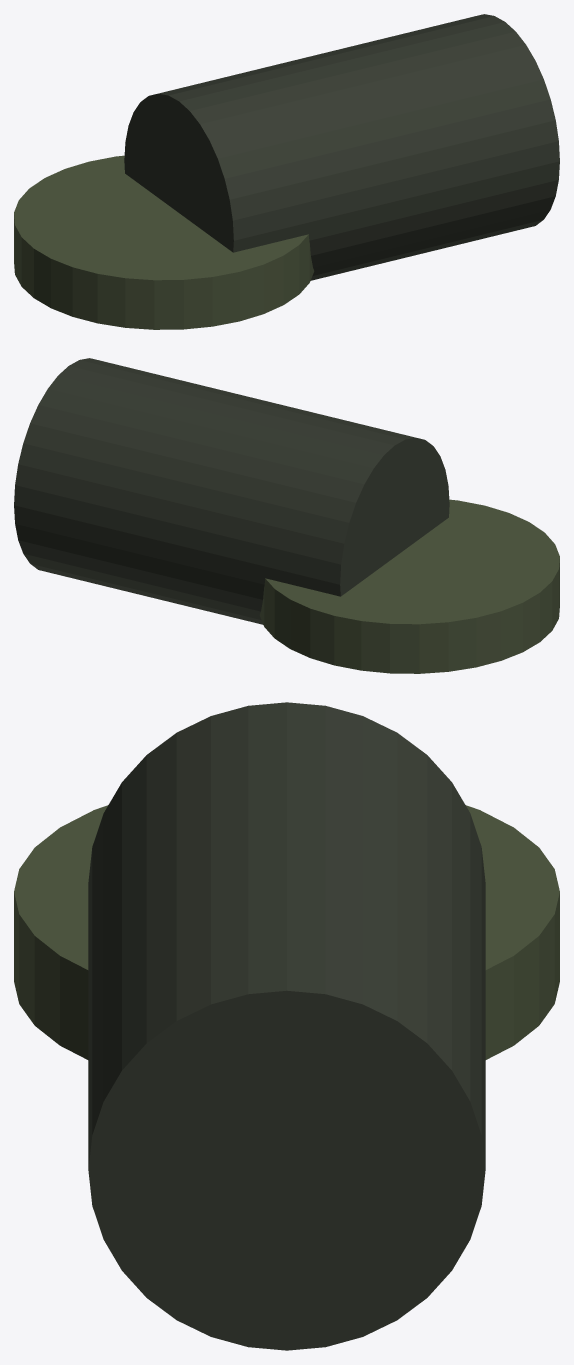
File: mortar_turret.obj
3 renders of one model, top to bottom at view 1: azimuth 30°, elevation 25°; view 2: azimuth 150°, elevation 25°; view 3: azimuth 270°, elevation 25°, orthographic. The views are drawn at different scales.
Parts seen in each view (by area): view 1: MortarTurret; view 2: MortarTurret; view 3: MortarTurret.
Part boxes in pixels (x1=…): MortarTurret: x1=14, y1=14, x2=559, y2=329; MortarTurret: x1=14, y1=358, x2=559, y2=673; MortarTurret: x1=14, y1=702, x2=559, y2=1350.
Size of the model in its own units: 0.795 by 0.32 by 0.44.
